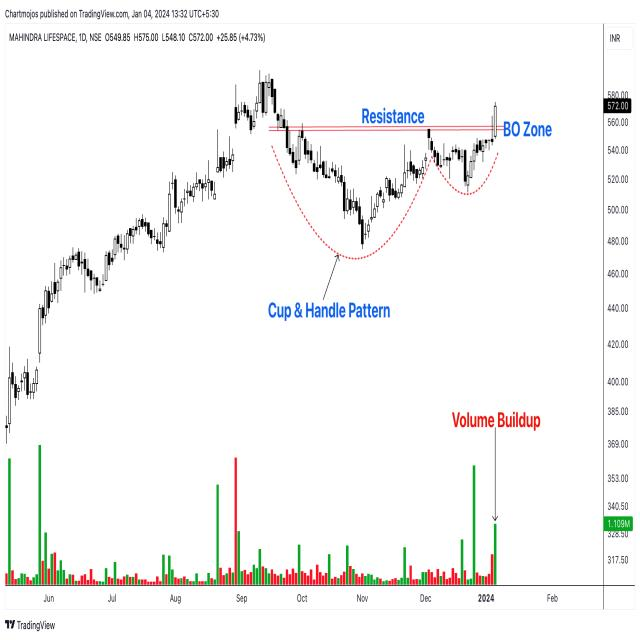Cup-and-handle: (270, 127, 500, 250)
